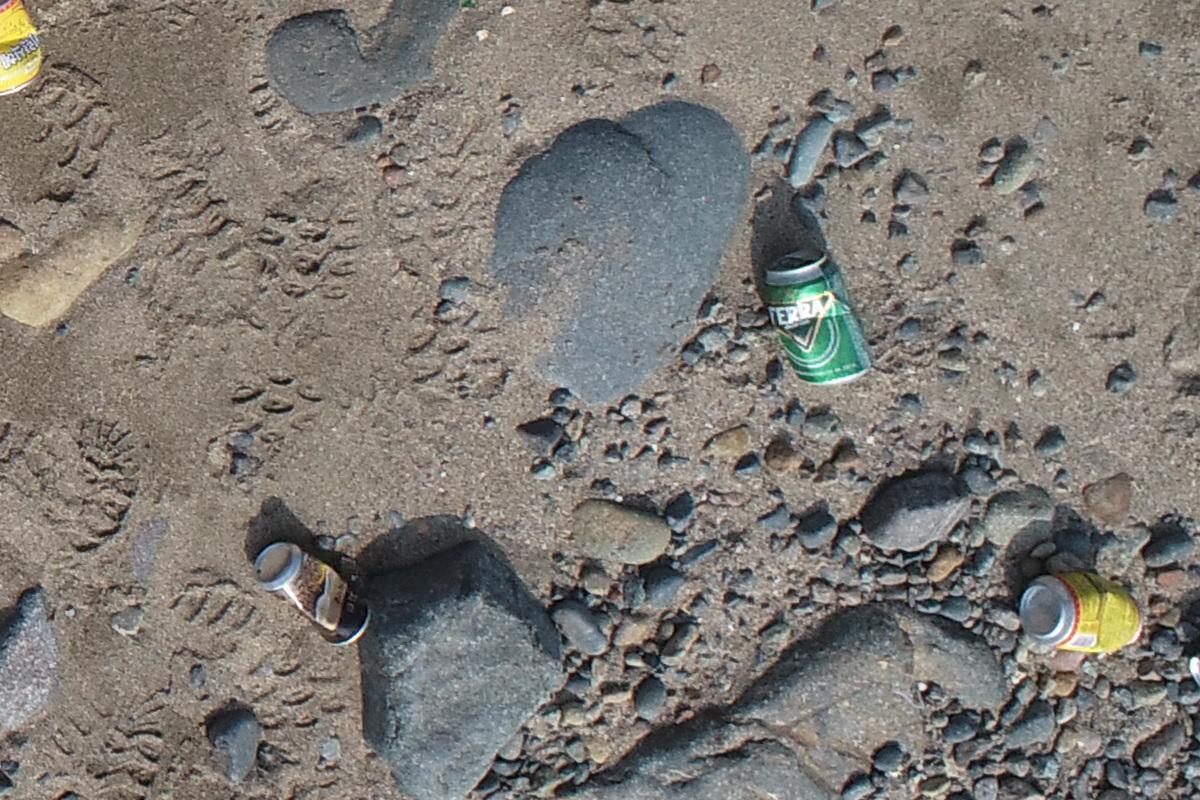(11)Metal: (764, 244, 874, 387), (254, 540, 372, 644), (1021, 572, 1145, 655), (0, 0, 44, 96)
